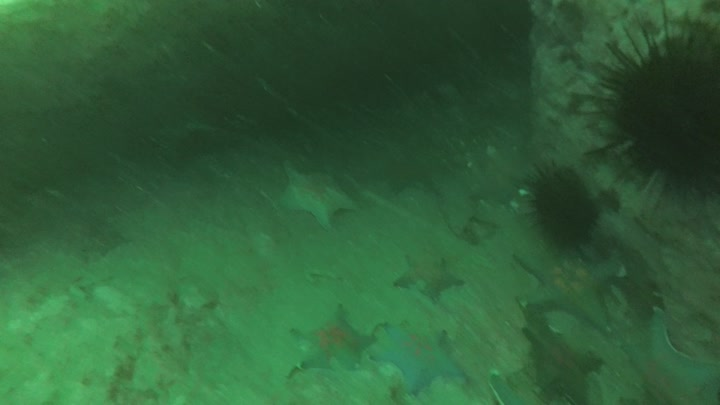echinus: (571, 4, 720, 222), (519, 162, 604, 259)
starfish: (516, 231, 624, 339), (620, 309, 720, 405), (372, 318, 468, 397), (524, 318, 608, 405), (277, 157, 362, 234), (289, 303, 380, 374), (393, 253, 468, 309), (367, 149, 439, 197), (470, 165, 528, 208)
